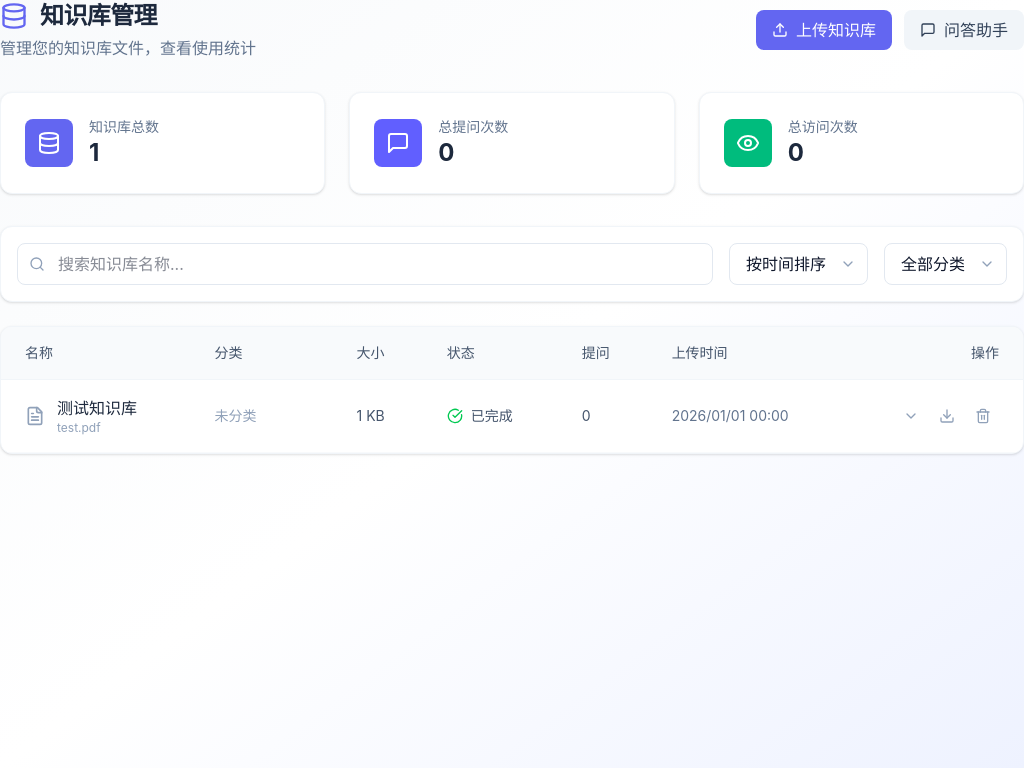
Test: KnowledgeBaseManagePage › 文档删除二次确认 (Issue #69) › 点击文档删除按钮后弹出确认对话框，取消则不发送删除请求
Expected: the text "测试知识库" is shown, top-left (57, 396), bottom-right (137, 420)
Click the button titled "文档列表" at (911, 416), box top-left (895, 400), bottom-right (927, 432)
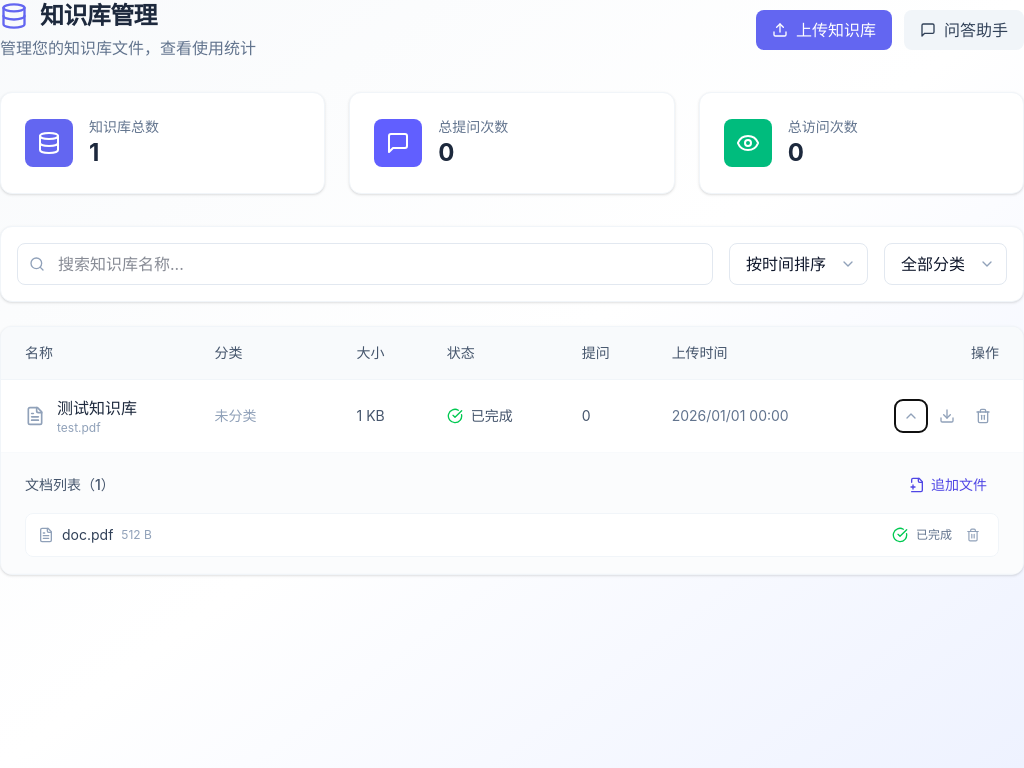
Result: the text "doc.pdf" is shown at top-left (62, 525), bottom-right (113, 545)
Click the button titled "删除文档" at (973, 535), box top-left (960, 522), bottom-right (986, 548)
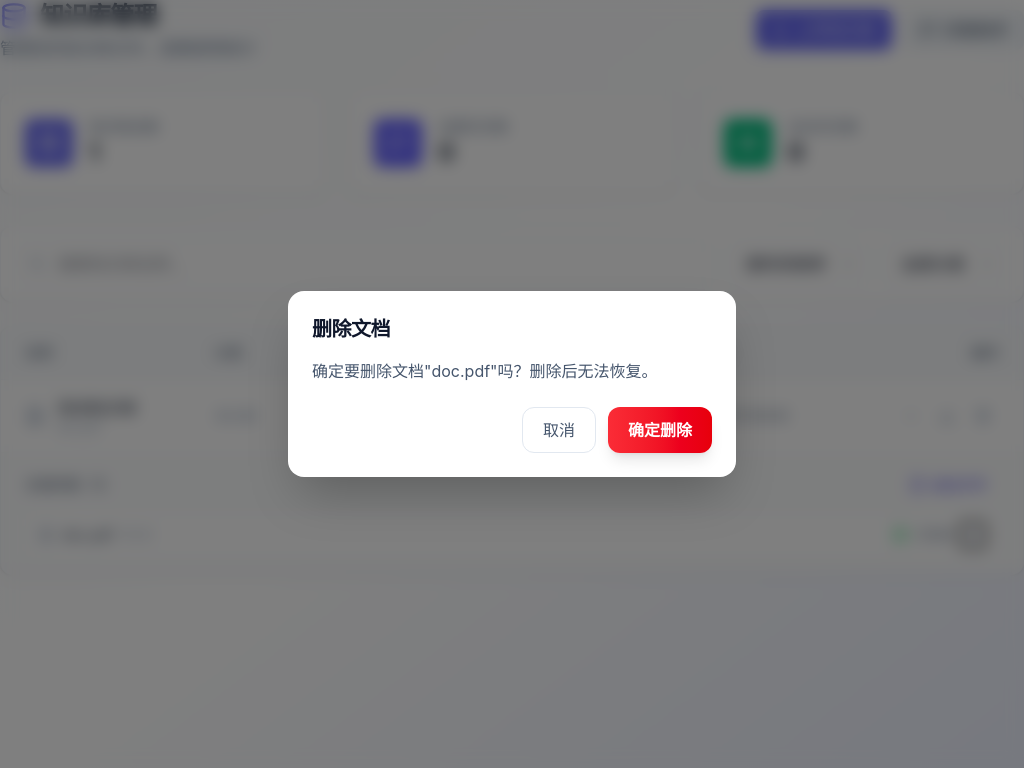
Result: the button "确定删除" is shown at top-left (608, 407), bottom-right (712, 453)
Click the button "取消" at (559, 430), box top-left (522, 407), bottom-right (596, 453)
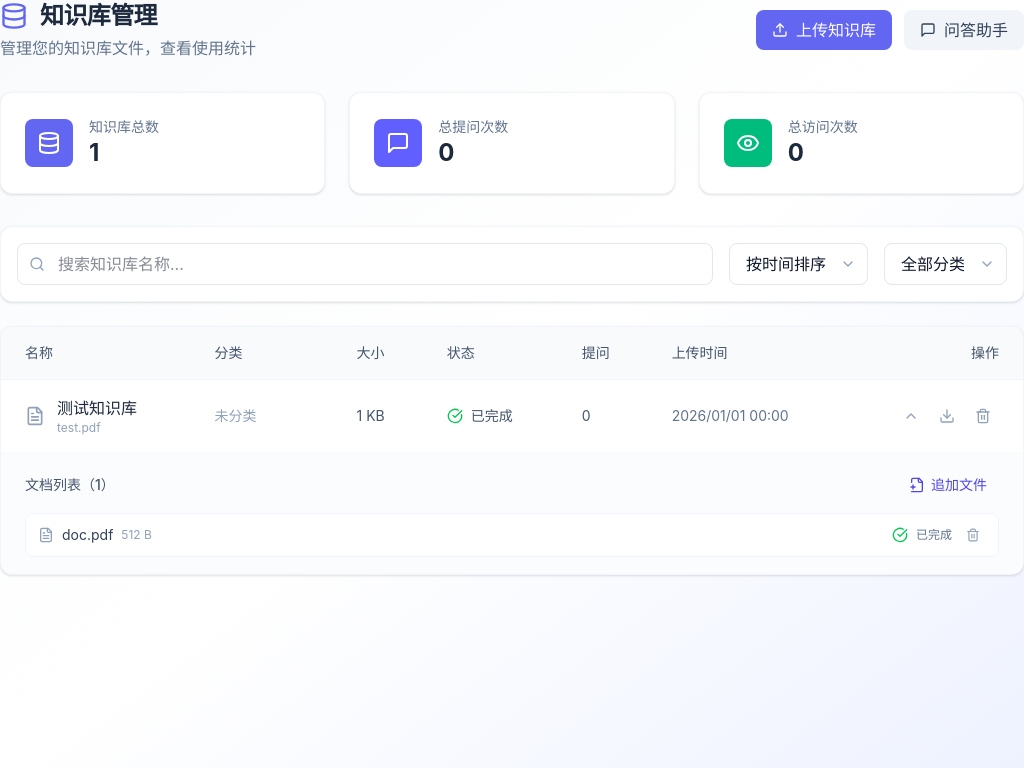
Result: the button "确定删除" is gone
